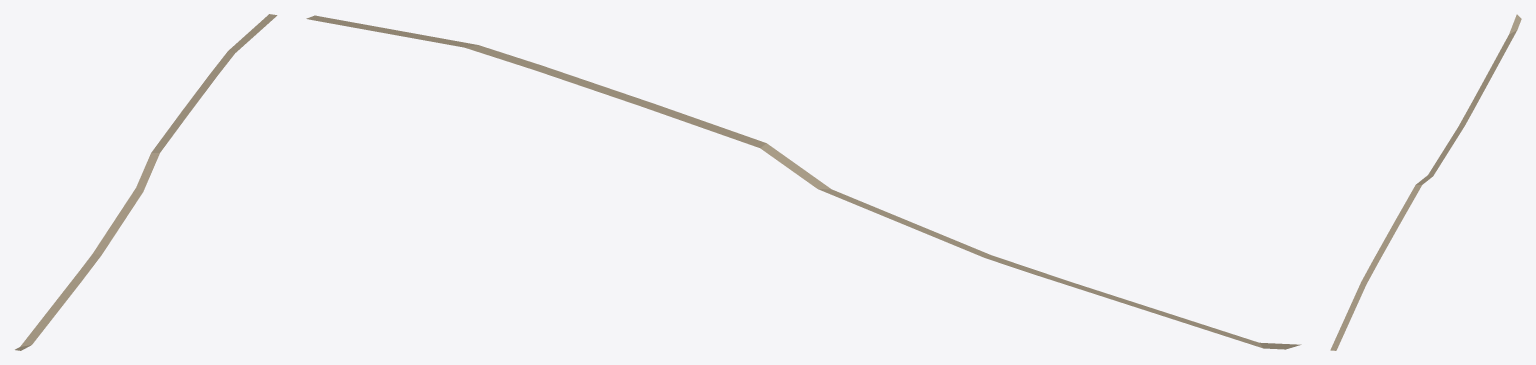
File: farm_-37_-26_track.glb
3 renders of one model, left to right at view 1: azimuth 90°, elevation 25°; view 2: azimuth 150°, elevation 25°; view 3: azimuth 270°, elevation 25°, orthographic. The views are drawn at different scales.
Visible parts, largest first — view 1: geometry_0; view 2: geometry_0; view 3: geometry_0.
Part boxes in pixels (x1,y1,x2,y2): geometry_0: [15, 14, 277, 350]; geometry_0: [306, 15, 1301, 349]; geometry_0: [1330, 14, 1521, 350].
Bounding box in the file's own units: 352 × 26.08 × 98.05.
